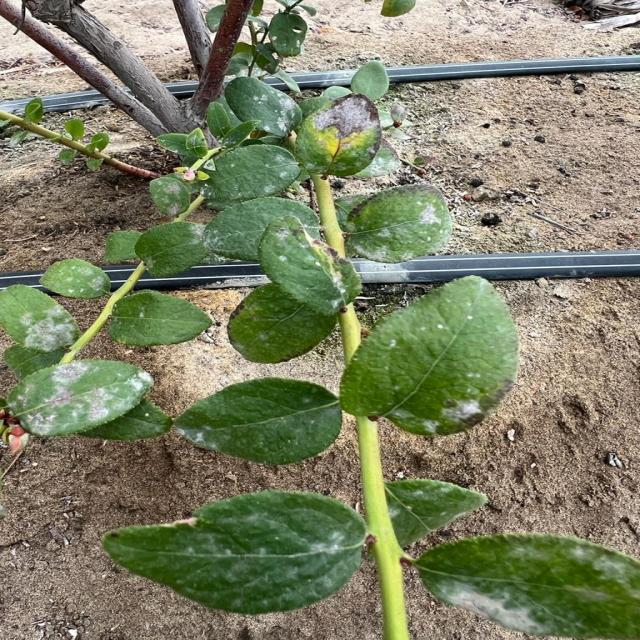Hojas con oidiosis: (100, 487, 368, 618), (337, 270, 522, 434), (169, 376, 344, 466), (3, 359, 154, 438), (342, 183, 453, 265), (131, 219, 223, 278), (36, 256, 112, 299)
